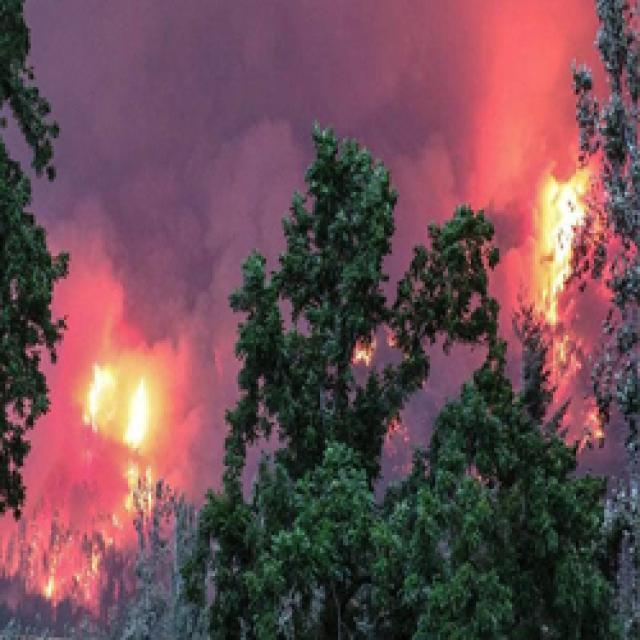Fire: (532, 162, 596, 371), (16, 510, 110, 604), (67, 358, 156, 443), (114, 463, 158, 509), (348, 343, 374, 368)
Smoke: (28, 120, 292, 338), (21, 1, 484, 119), (356, 121, 524, 292), (156, 338, 234, 499)
